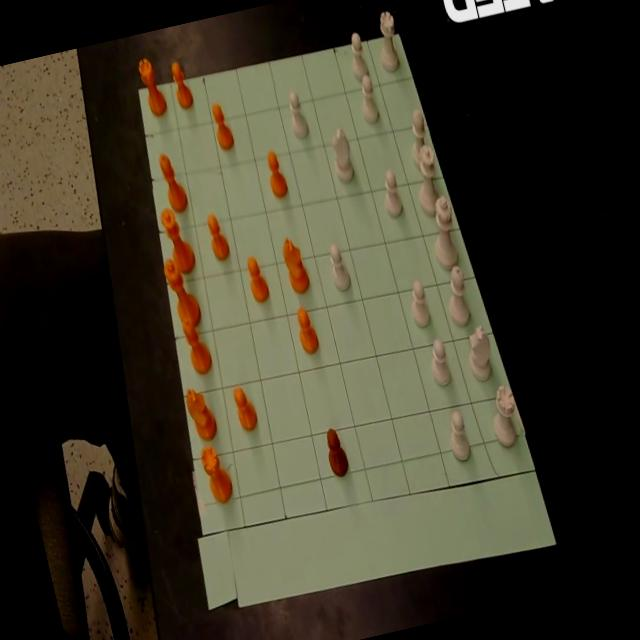orange_bishop: (182, 317, 211, 373), (160, 153, 187, 212)
orange_king: (164, 258, 200, 325)
orange_knight: (186, 388, 216, 439), (283, 237, 309, 291)
orange_pawn: (233, 387, 257, 430), (212, 103, 234, 149), (327, 427, 348, 475), (172, 61, 193, 108), (248, 255, 269, 301), (298, 306, 318, 353), (208, 215, 229, 259), (267, 150, 287, 196)
orange_queen: (161, 208, 195, 272)
orange_rook: (201, 446, 232, 501), (138, 58, 166, 115)
white_bishop: (449, 265, 470, 325), (412, 109, 425, 167)
white_king: (435, 195, 458, 268)
white_knight: (332, 128, 354, 181), (469, 326, 491, 379)
white_pawn: (451, 410, 470, 459), (330, 244, 350, 289), (289, 90, 308, 137), (431, 339, 450, 384), (361, 74, 379, 121), (412, 279, 430, 326), (351, 32, 368, 80), (385, 168, 402, 215)
white_queen: (419, 145, 438, 215)
white_rook: (493, 385, 516, 446), (380, 11, 399, 71)
